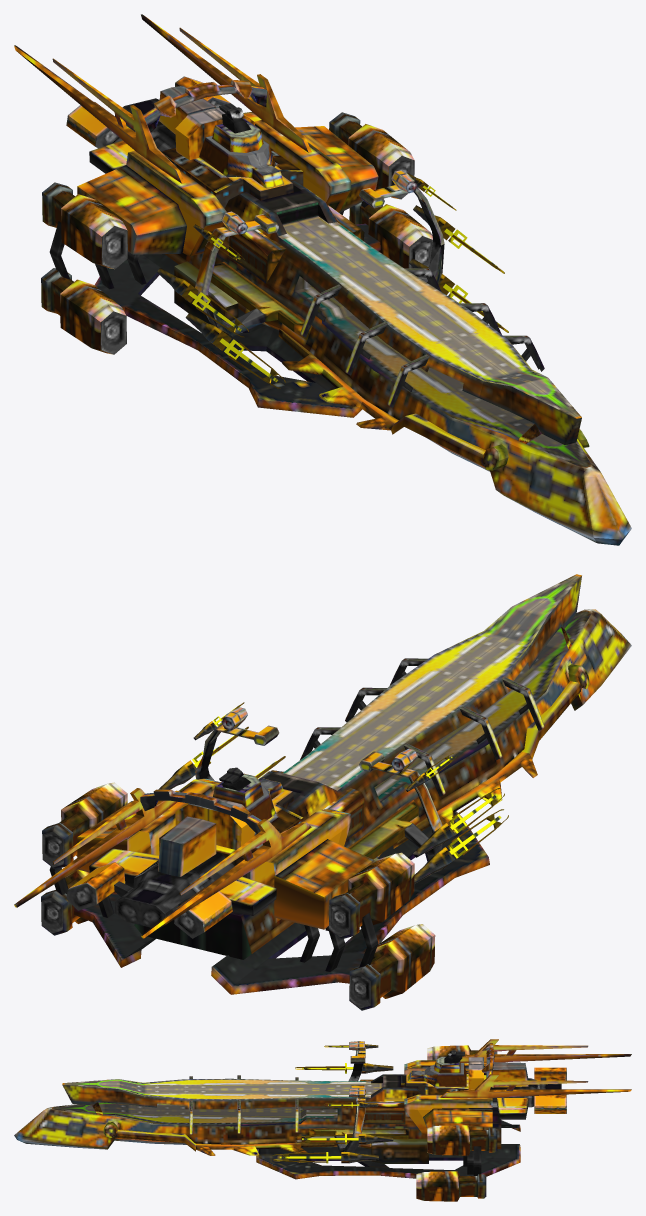
File: mx_Zhengfu_02.fbx
3 views of the same model, one above another, from view 1: azimuth 30°, elevation 25°; view 2: azimuth 150°, elevation 25°; view 3: azimuth 270°, elevation 25° (orthographic). The views are drawn at different scales.
Visible parts, largest first — view 1: mx_Zhengfu_02; view 2: mx_Zhengfu_02; view 3: mx_Zhengfu_02.
Boxes of the visible parts, box(x1,y1,x2,y2) form: mx_Zhengfu_02: box(14, 14, 631, 545); mx_Zhengfu_02: box(14, 574, 631, 1010); mx_Zhengfu_02: box(14, 1039, 631, 1201).
Size of the model in its own units: 266 by 140 by 728.
